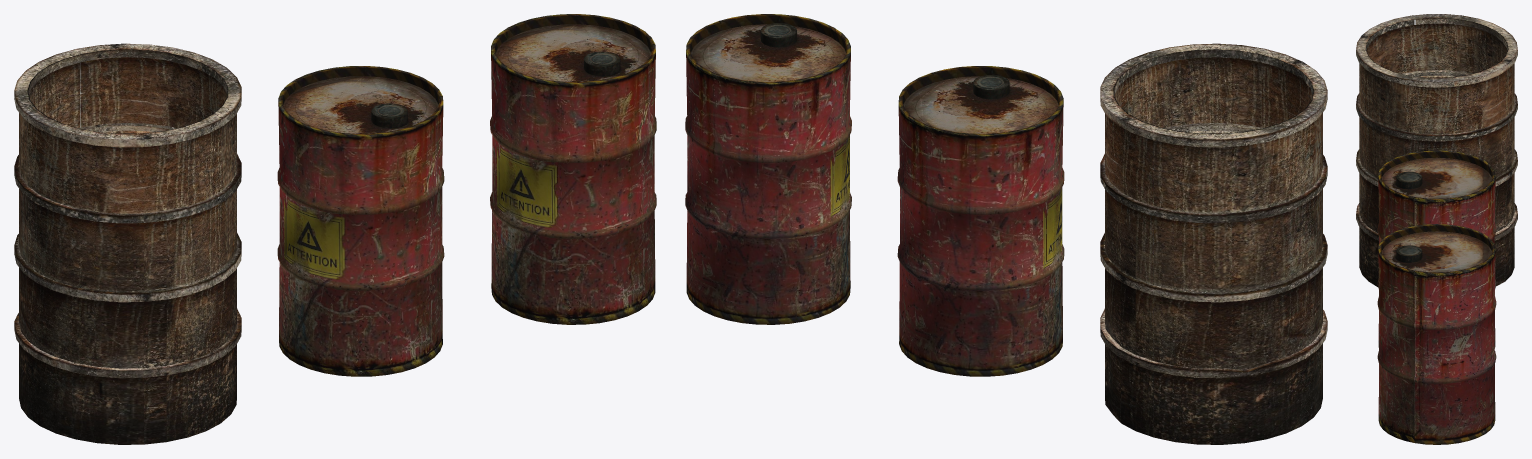
Rendered from barrel_rust.fbx.
3 renders of one model, left to right at view 1: azimuth 30°, elevation 25°; view 2: azimuth 150°, elevation 25°; view 3: azimuth 270°, elevation 25°, orthographic. The views are drawn at different scales.
Visible parts, largest first — view 1: barrel_rust, Barrel_90, Barrel_90_1; view 2: barrel_rust, Barrel_90, Barrel_90_1; view 3: barrel_rust, Barrel_90_1, Barrel_90.
Boxes of the visible parts, x1,y1,x2,y2 form: barrel_rust: [14, 43, 241, 444]; Barrel_90: [277, 66, 444, 376]; Barrel_90_1: [490, 14, 656, 324]; barrel_rust: [1100, 43, 1327, 444]; Barrel_90: [897, 66, 1064, 376]; Barrel_90_1: [685, 14, 851, 324]; barrel_rust: [1356, 14, 1517, 286]; Barrel_90_1: [1377, 224, 1496, 444]; Barrel_90: [1377, 150, 1496, 348].
Size of the model in its own units: 616 by 293 by 197.
